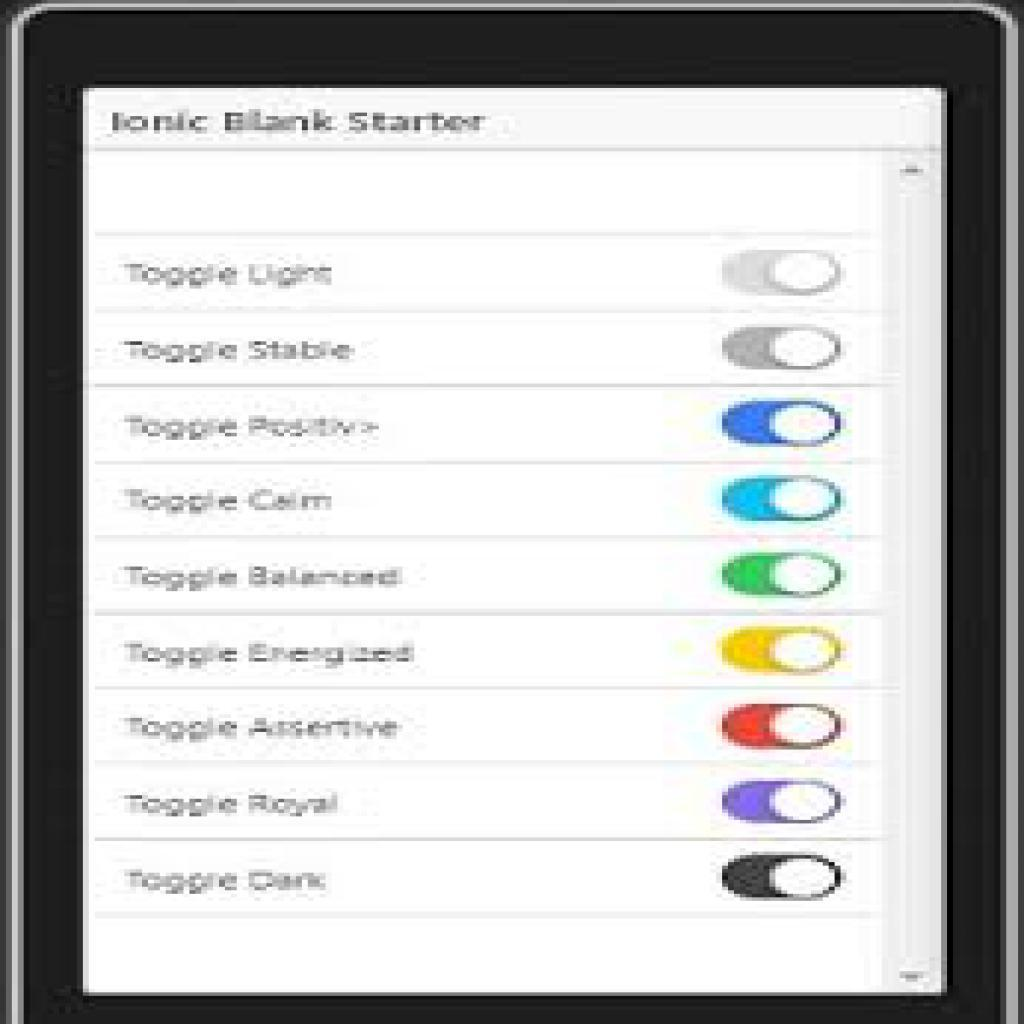label: (122, 711, 408, 745), (120, 560, 409, 592), (122, 257, 345, 294), (117, 411, 382, 442), (120, 862, 337, 899), (125, 642, 420, 669), (120, 788, 346, 823), (122, 488, 332, 518), (121, 341, 362, 365)
switch: (721, 399, 846, 450), (723, 478, 846, 526), (721, 628, 845, 675), (720, 554, 843, 601), (723, 704, 844, 751), (722, 781, 844, 827), (721, 857, 845, 902), (721, 327, 842, 372), (725, 252, 840, 294)
